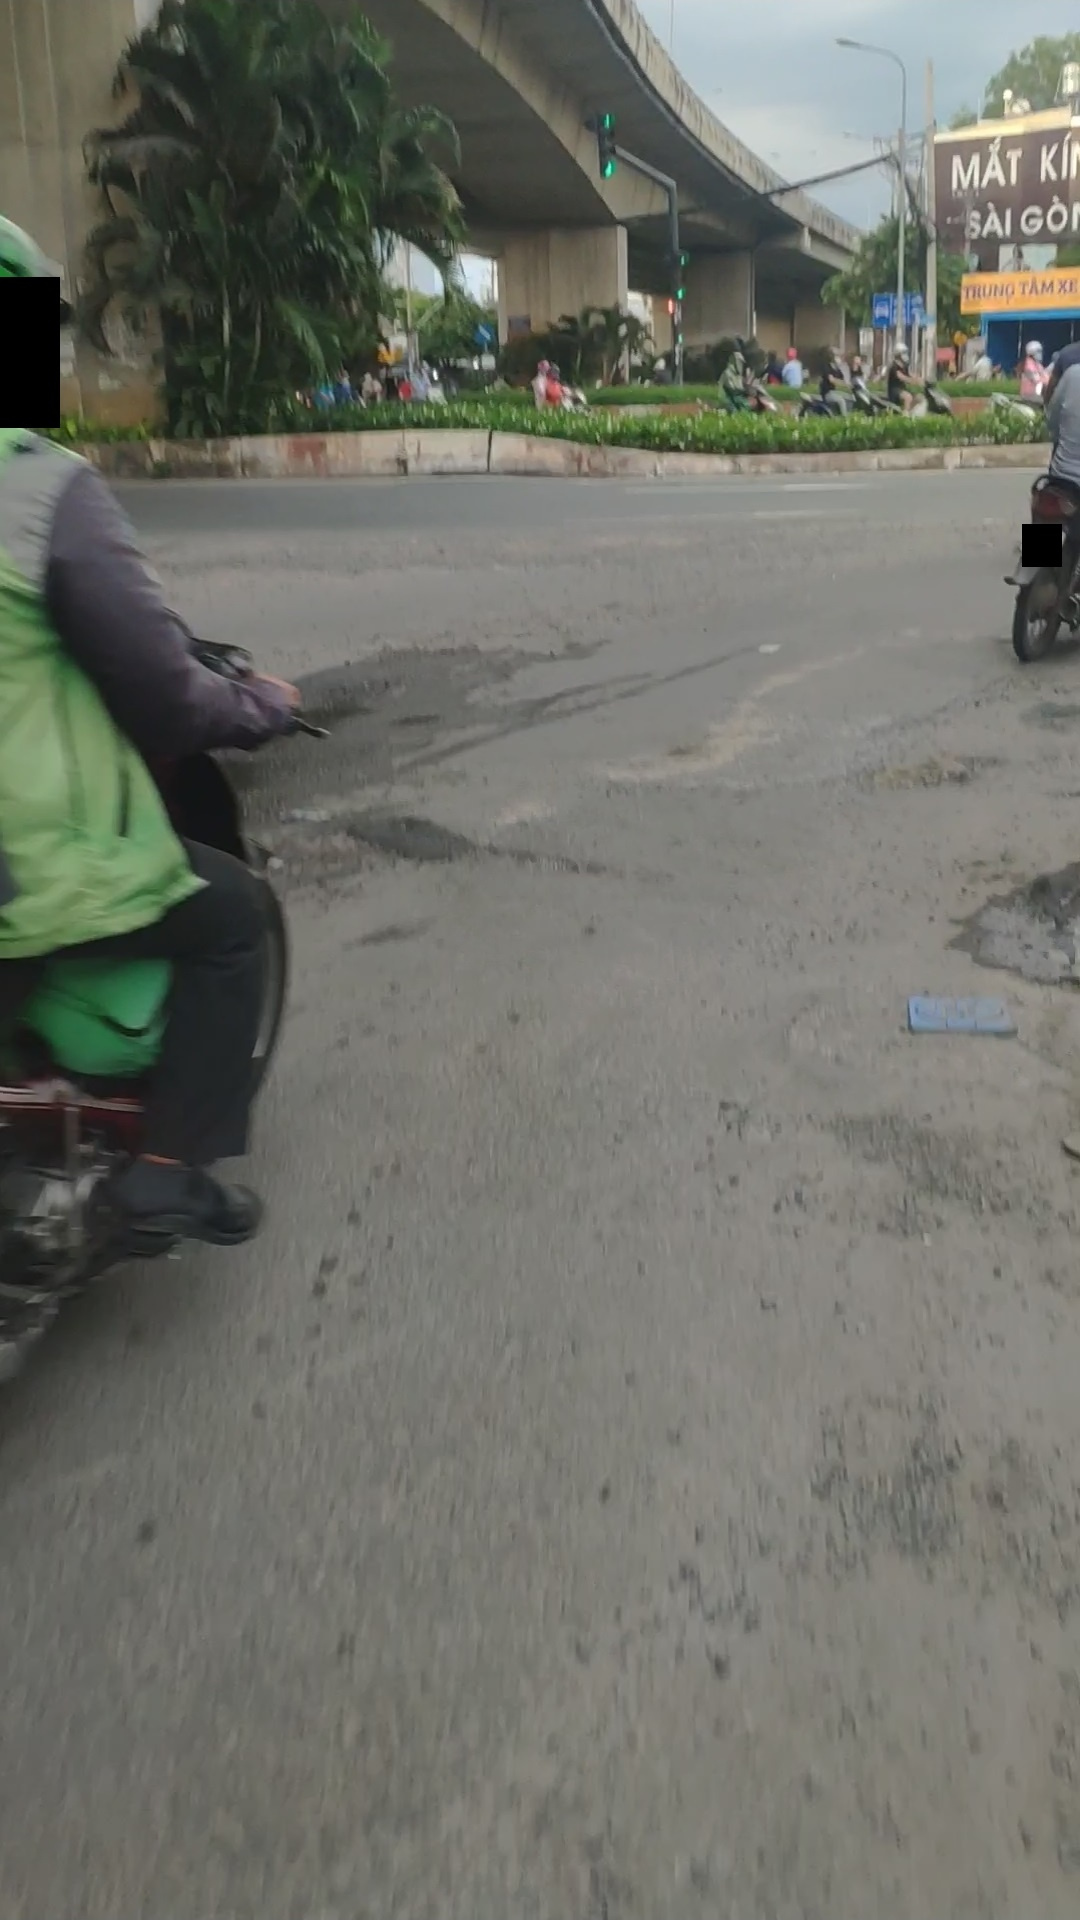hole: (760, 985, 1050, 1112), (947, 866, 1080, 986), (825, 742, 998, 796)
